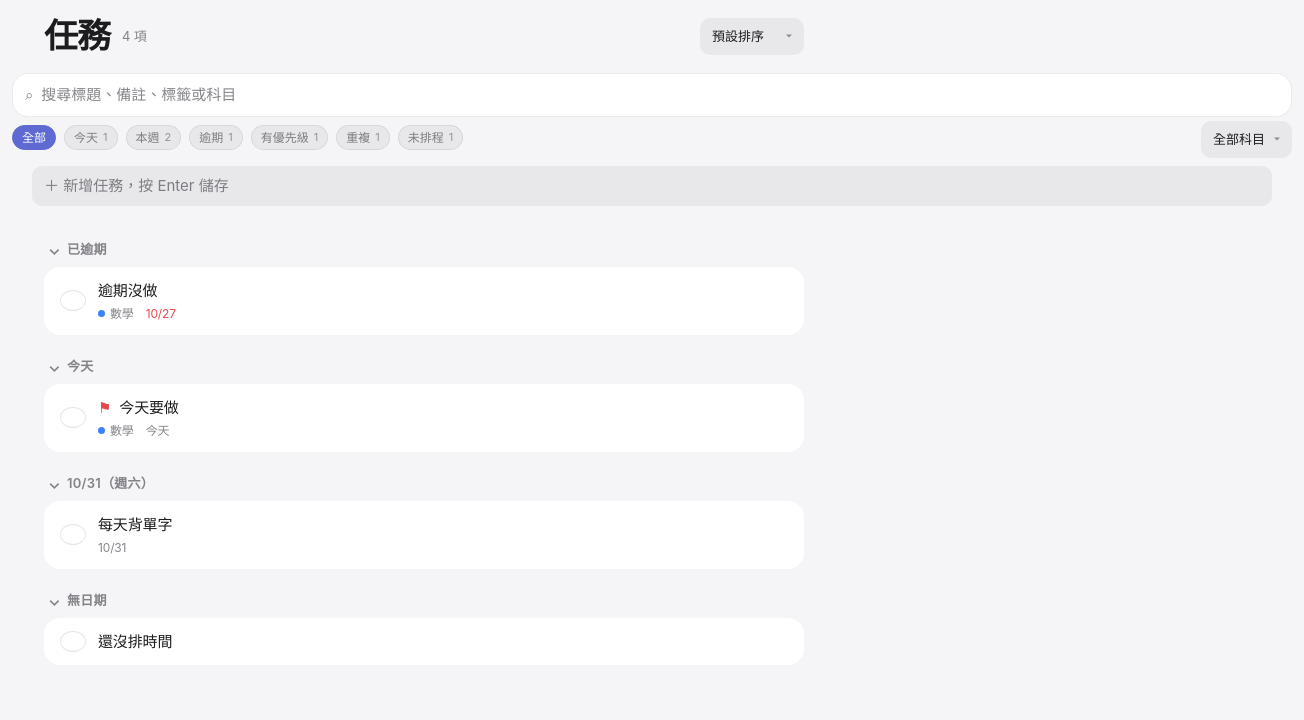
Test: §E 任務第一層 filters › 可只看未分科目的收件匣任務
The image size is (1304, 720).
Select "未分科目" in the dropdown named "依科目篩選": (1246, 140) [1201,121,1292,158]
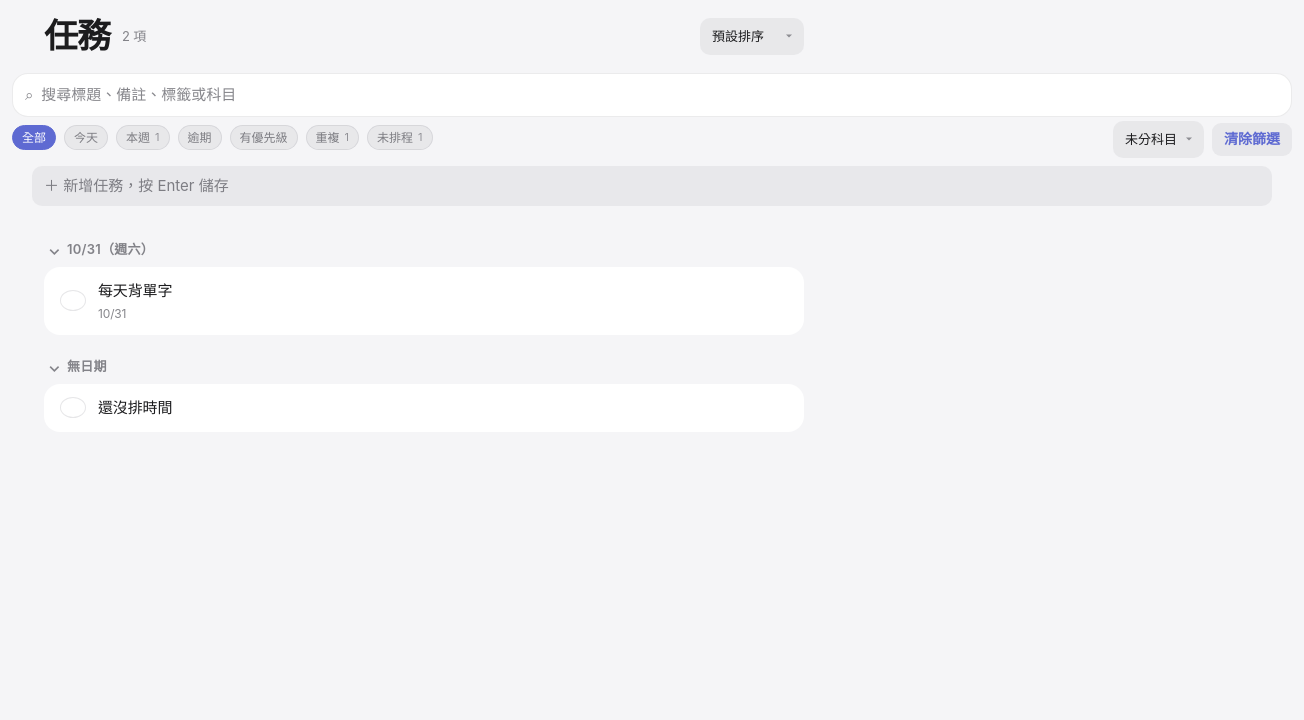
Expected: the text "還沒排時間" is shown, [98,398,172,417]
Result: the text "今天要做" is gone
Result: the text "逾期沒做" is gone
